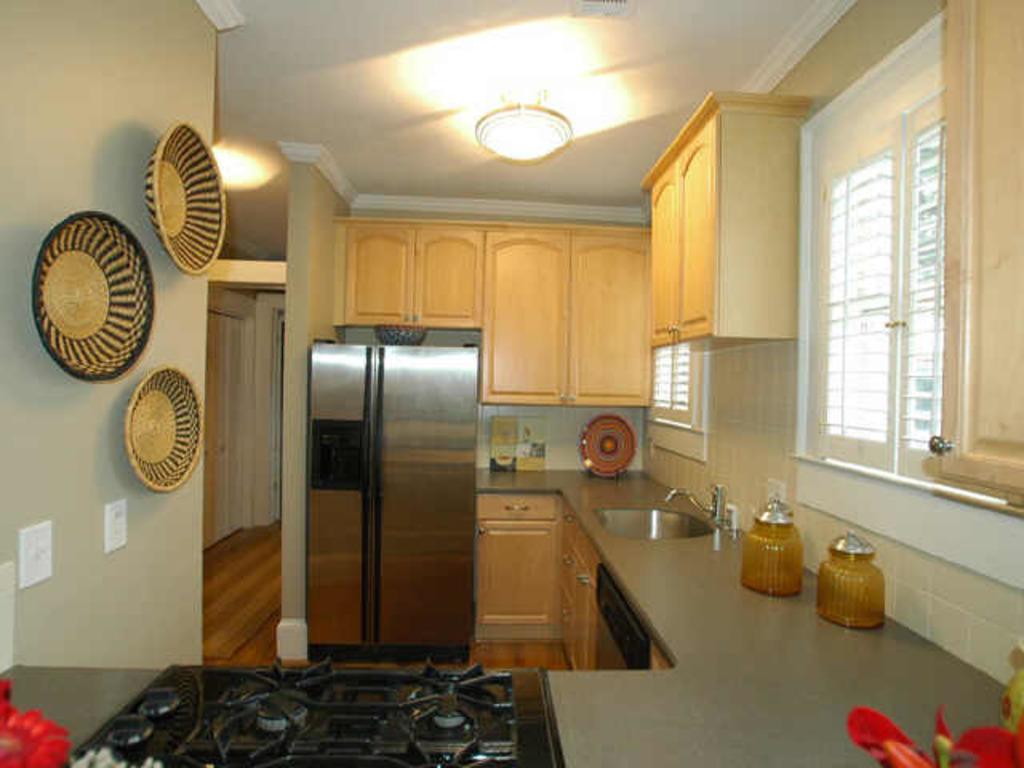cabinet door: (954, 34, 1024, 485), (489, 237, 567, 397), (573, 242, 649, 395), (673, 157, 716, 333), (338, 224, 413, 324), (486, 519, 547, 628), (414, 226, 479, 327), (648, 180, 675, 336), (484, 490, 552, 515)
handle: (358, 351, 375, 636), (370, 358, 387, 634), (926, 422, 956, 459), (506, 492, 531, 516)
refrigerator door: (372, 356, 473, 643), (310, 347, 363, 650)
